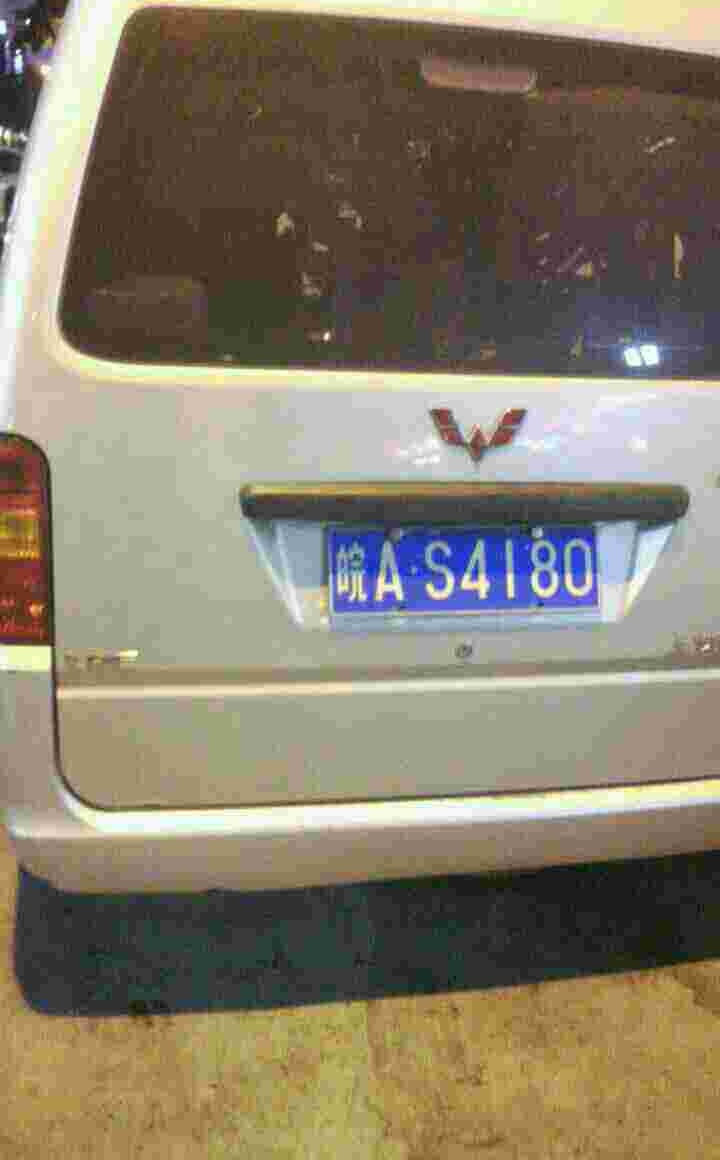license_plate: (338, 519, 597, 620)
